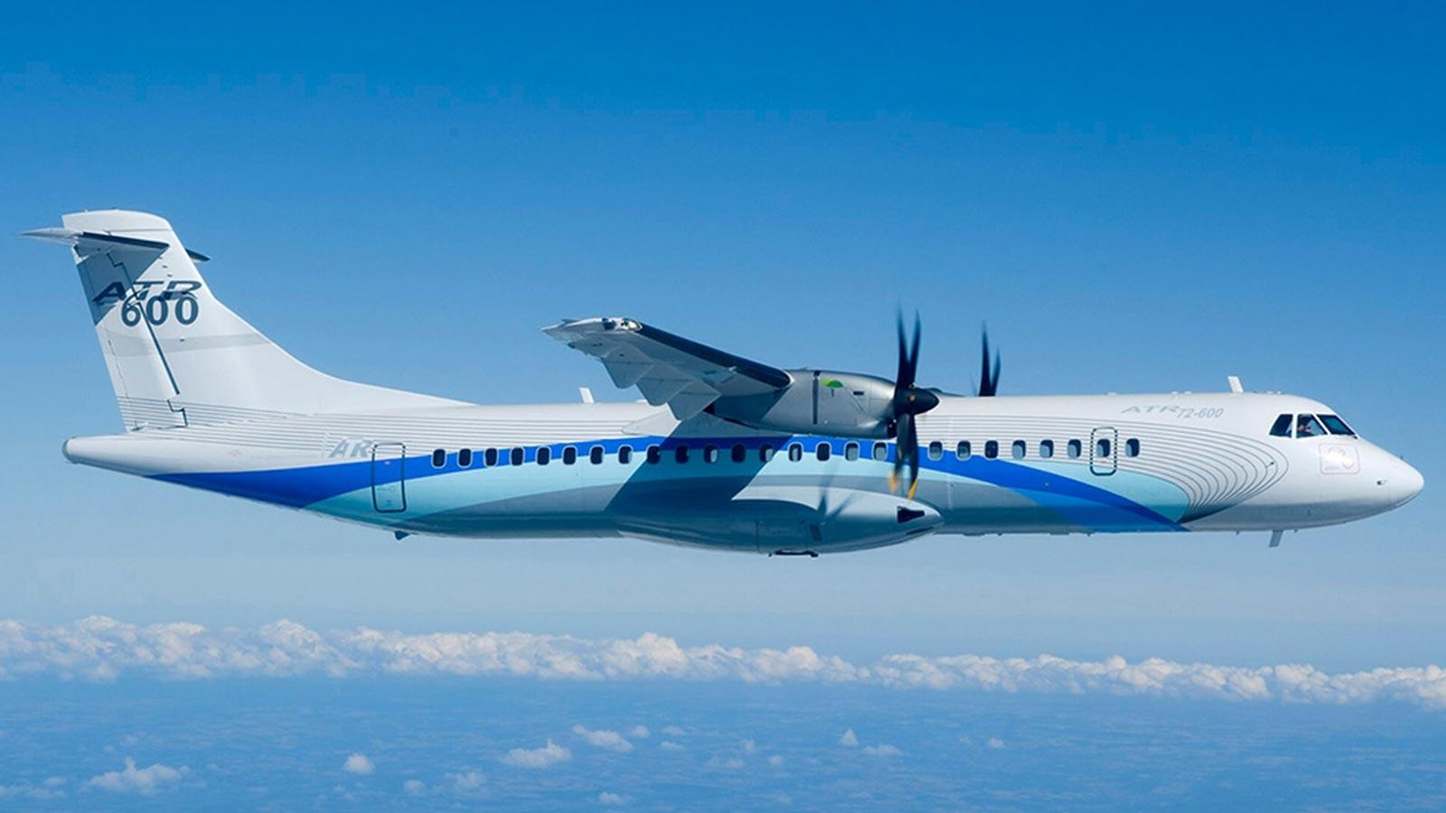aircraft: (45, 201, 1415, 563), (47, 304, 1422, 568)
